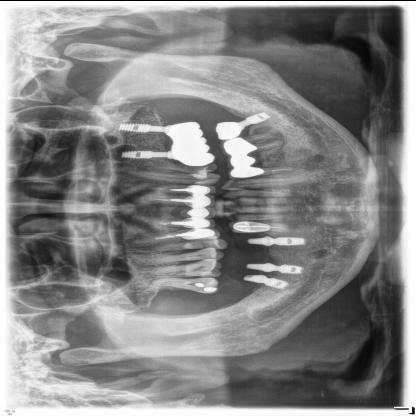Bicon: (241, 110, 274, 126), (119, 122, 151, 134), (270, 236, 306, 245), (121, 150, 153, 158), (279, 264, 303, 274)
